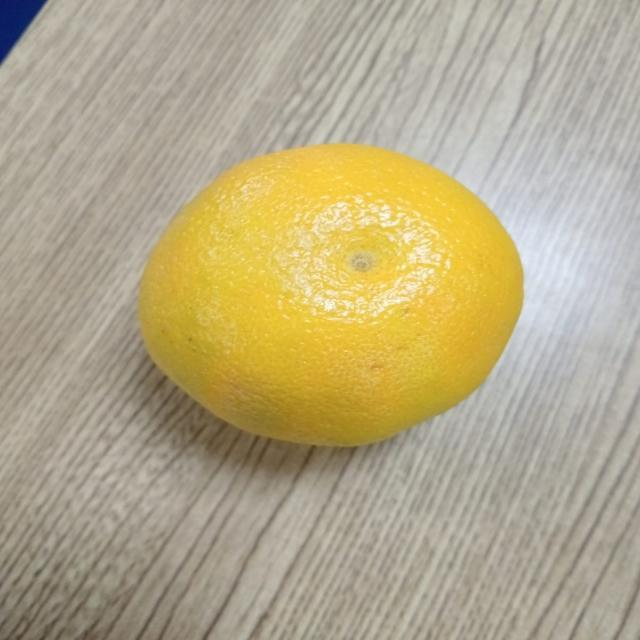Jeruk: (126, 135, 538, 461)
